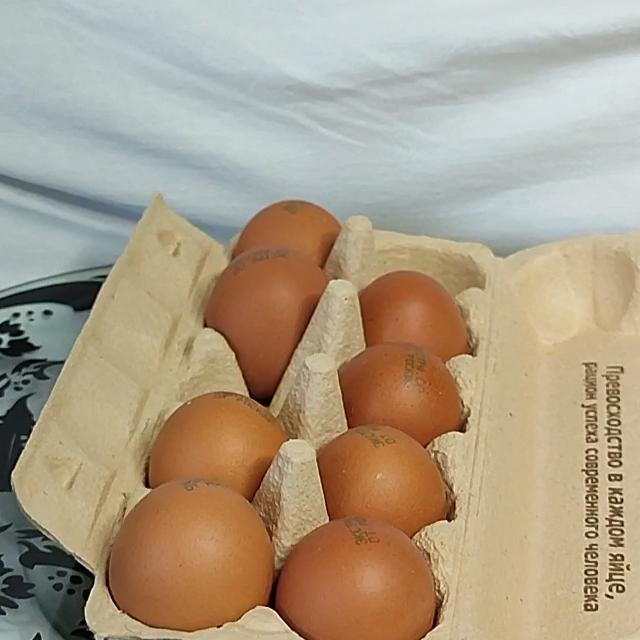egg: (20, 193, 640, 640)
